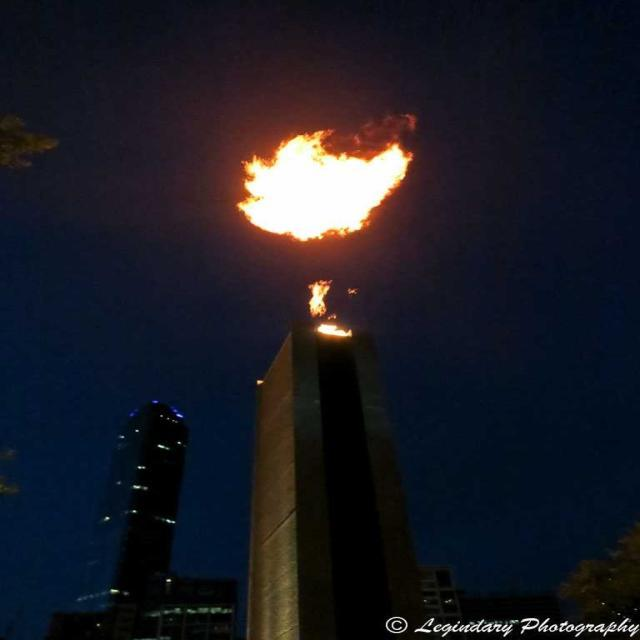Fire: (215, 119, 426, 339)
